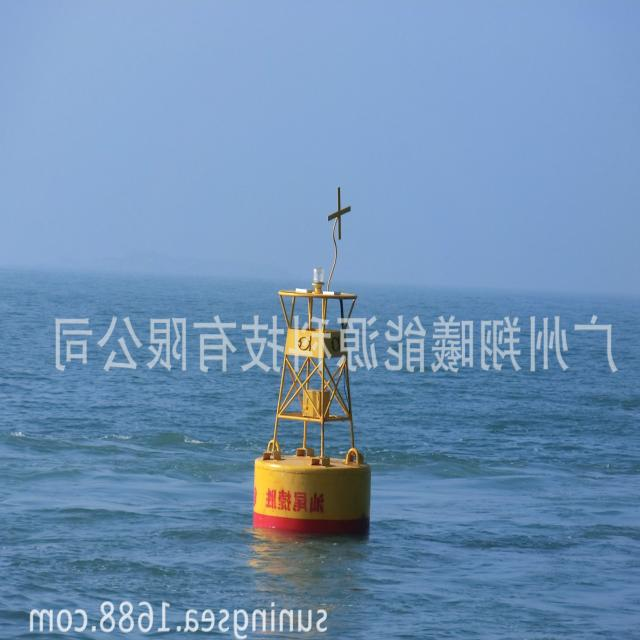buoy: (249, 188, 377, 530)
